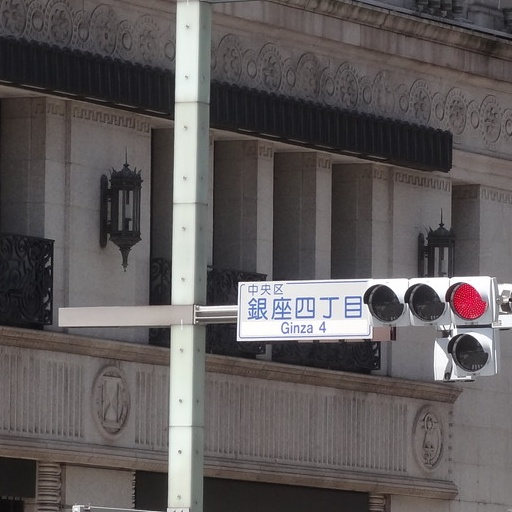Traffic_Signal_Red: (362, 274, 504, 329)
